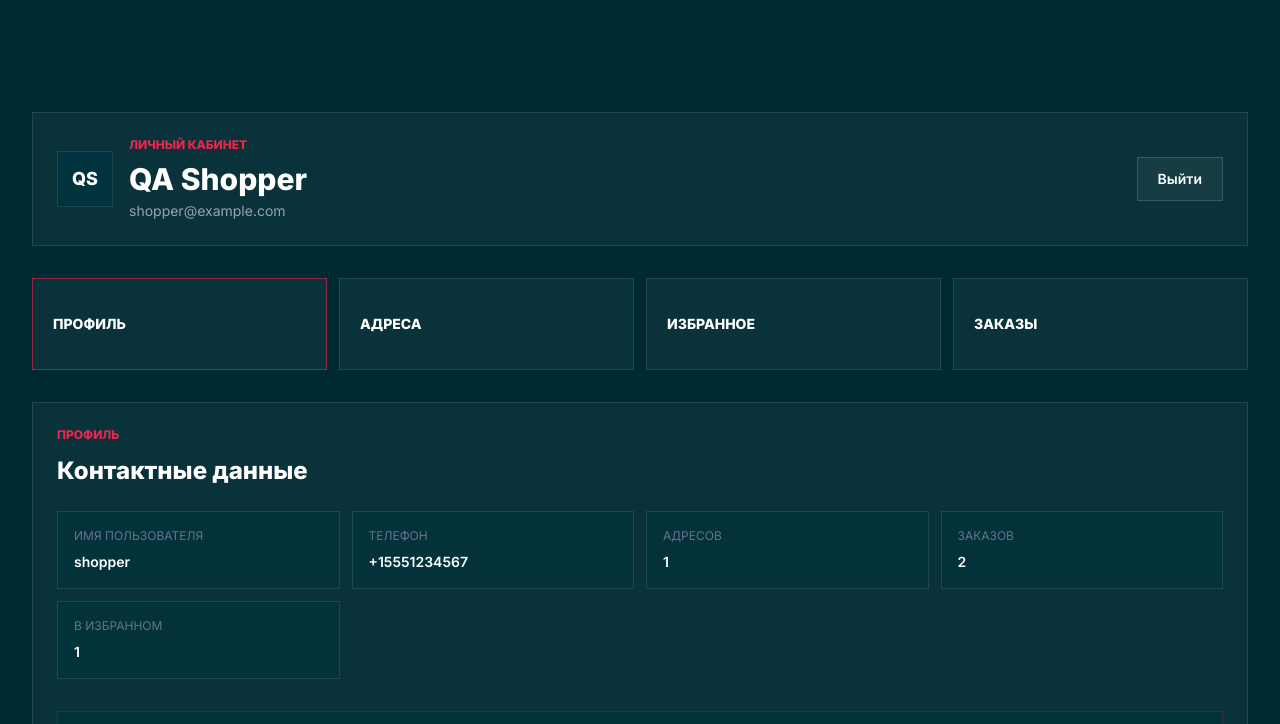
Test: AccountPage › renders authenticated profile and address data from the API
Expected: the heading "QA Shopper" is shown, left=129, top=161, right=307, bottom=197
Expected: the text "shopper@example.com" is shown, left=129, top=201, right=307, bottom=221
What coordinates should you click on to do the following:
click the button "Адреса"
I would click on:
 (391, 324)
Its box is left=339, top=278, right=634, bottom=370.
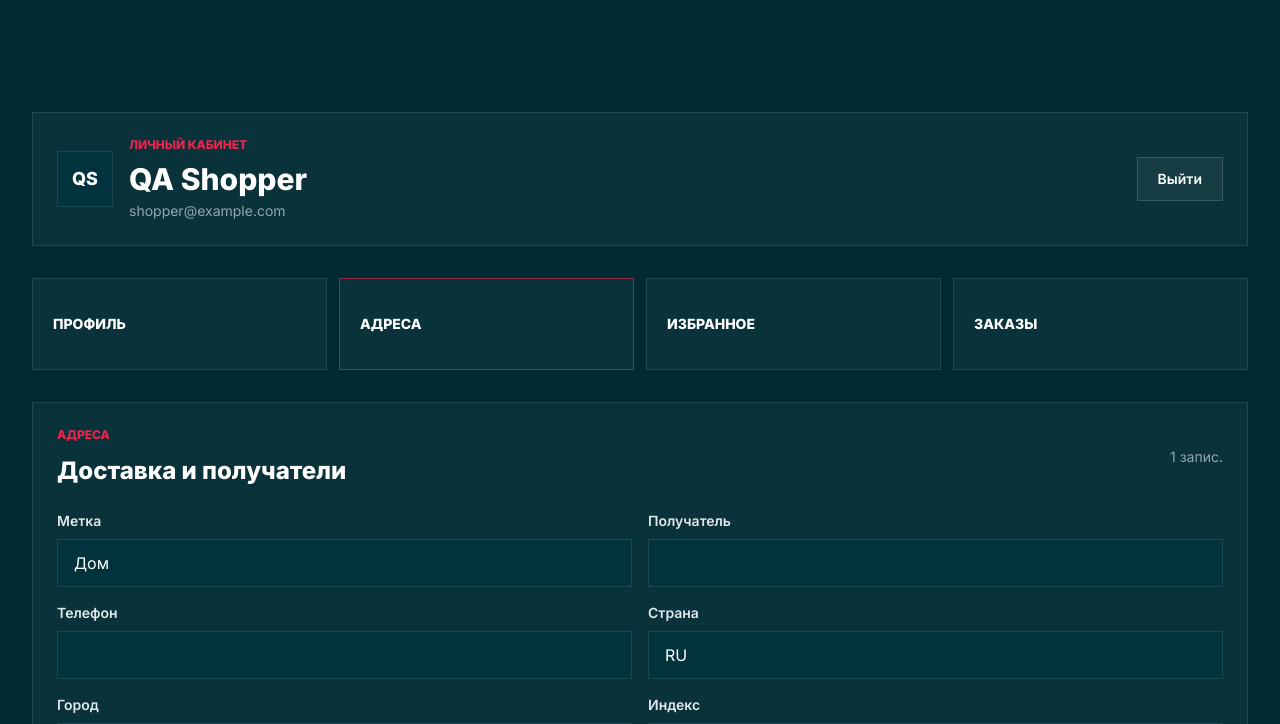
What coordinates should you click on to do the following:
click the button "Заказы"
I would click on:
 (1006, 324)
Its box is left=953, top=278, right=1248, bottom=370.
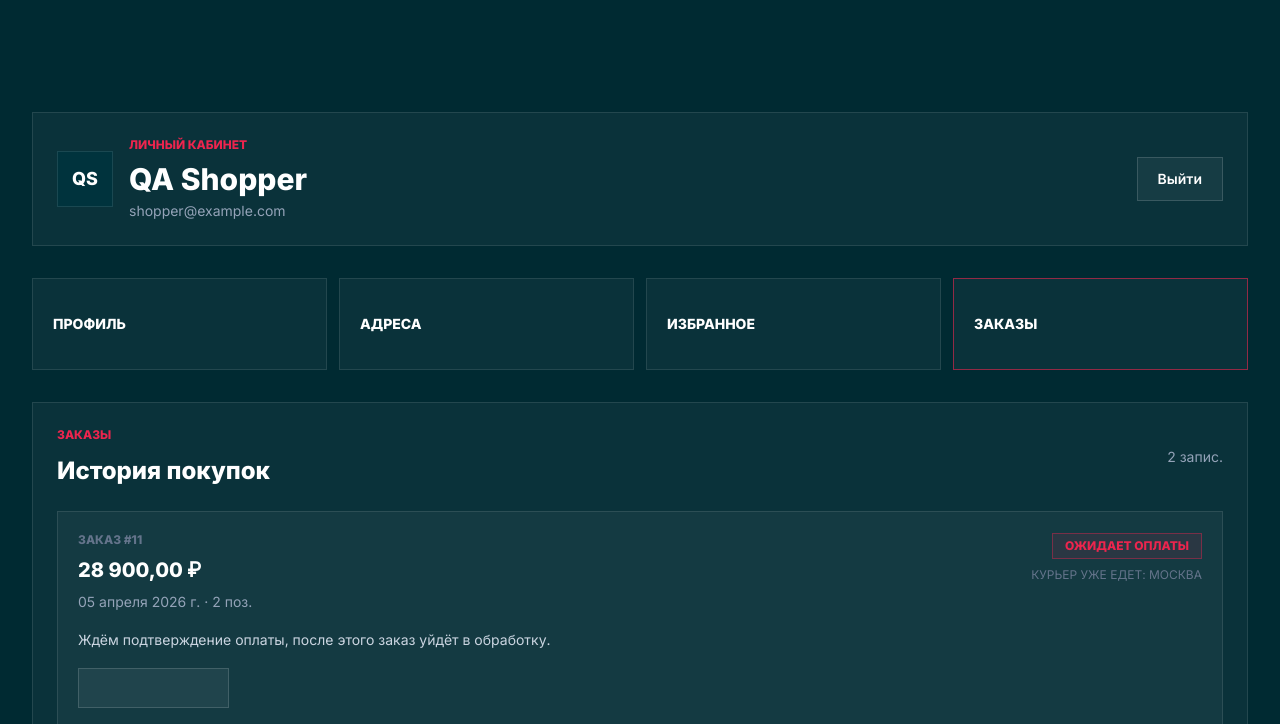
Expected: the heading "История покупок" is shown, left=57, top=455, right=270, bottom=487
Expected: the text "Заказ #11" is shown, left=78, top=532, right=142, bottom=547
Expected: the text "Ожидает оплаты" is shown, left=1052, top=533, right=1202, bottom=559
What coordinates should you click on to do the following:
click the button "Избранное"
I would click on:
 (711, 324)
Its box is left=646, top=278, right=941, bottom=370.
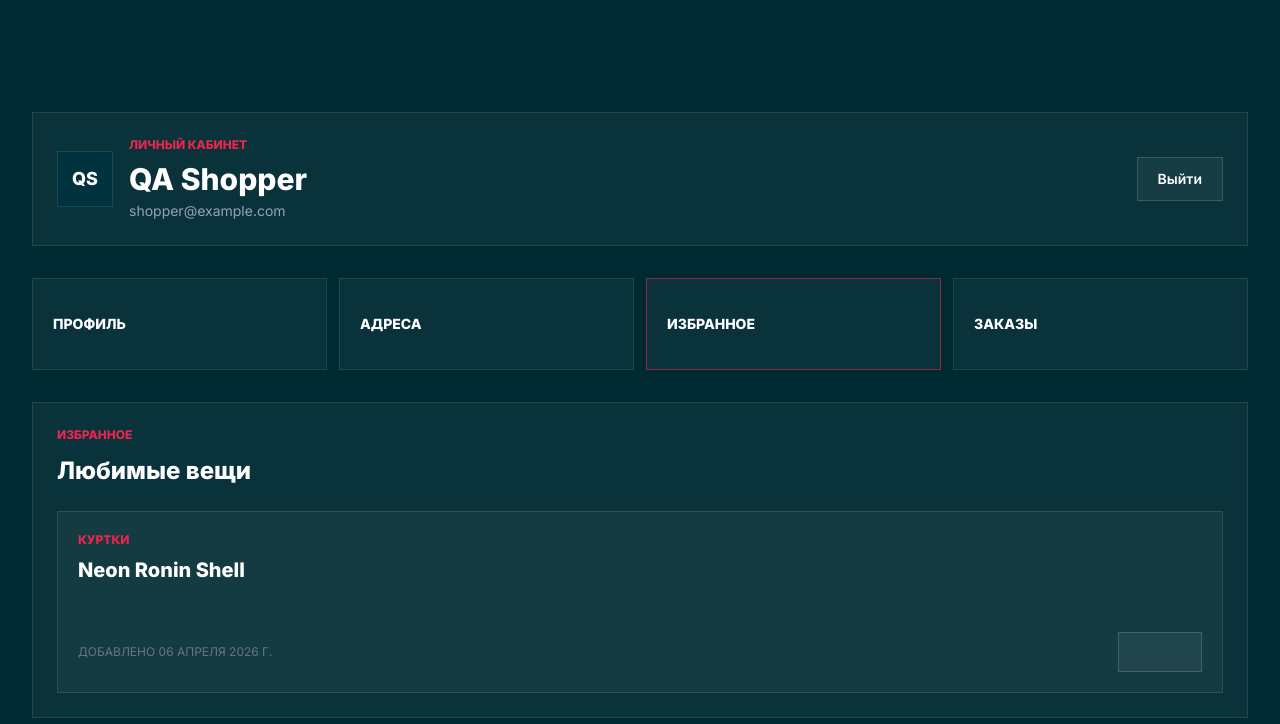
Expected: the link "Neon Ronin Shell" is shown, left=78, top=556, right=245, bottom=584
Expected: the heading "Любимые вещи" is shown, left=57, top=455, right=251, bottom=487
